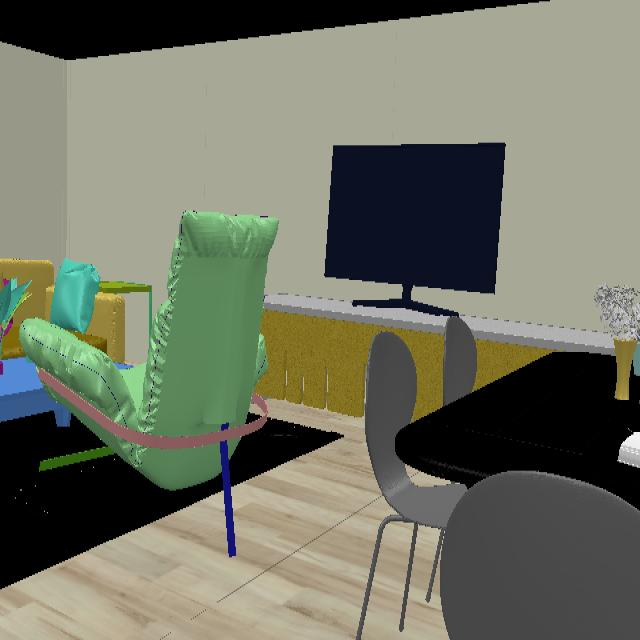book: (619, 431, 640, 472)
chair: (365, 332, 639, 640), (444, 317, 478, 407)
monitor: (324, 143, 506, 293)
pillow: (48, 260, 100, 336)
sofa: (15, 212, 279, 493), (0, 257, 58, 361), (85, 292, 147, 364)
table: (395, 352, 640, 512)
